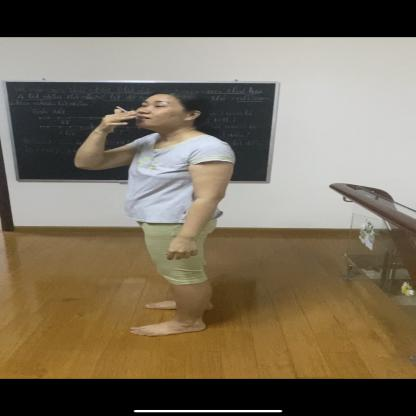cigarette: (115, 106, 130, 113)
person: (74, 86, 238, 341)
